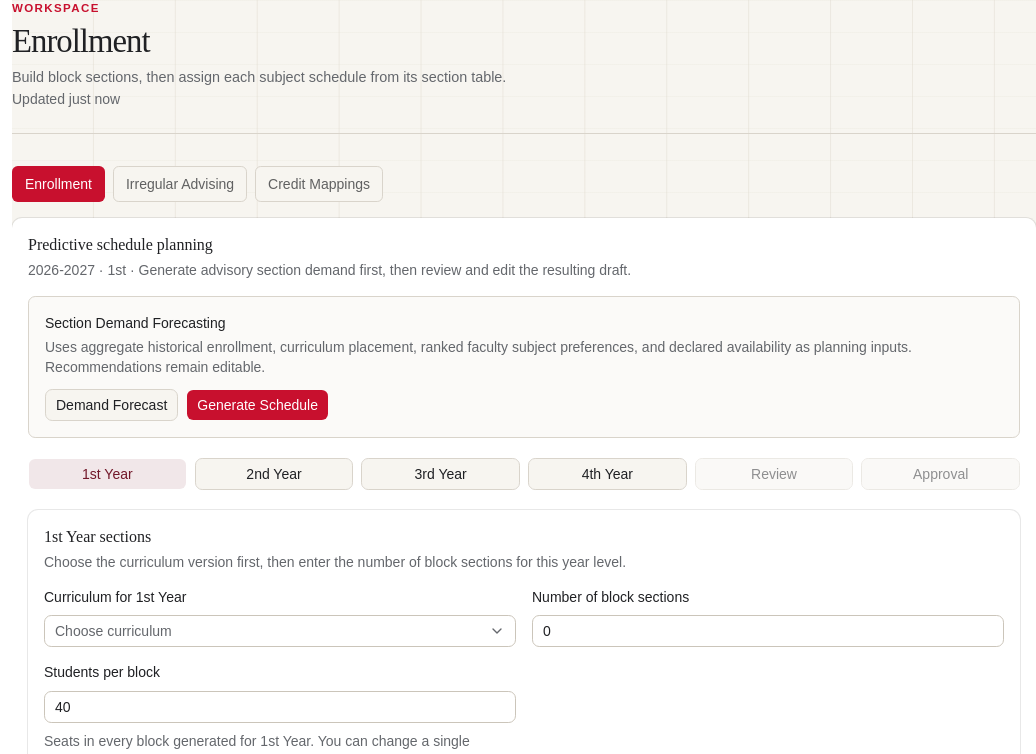
Scenario: ProgramChairEnrollmentWorkspace › guides the chair through one year level at a time
Check: the heading "1st Year sections" is shown, box x1=44 y1=528 x2=151 y2=545
Click the dropdown named "Curriculum for 1st Year" at (113, 631), box x1=44 y1=615 x2=516 y2=647
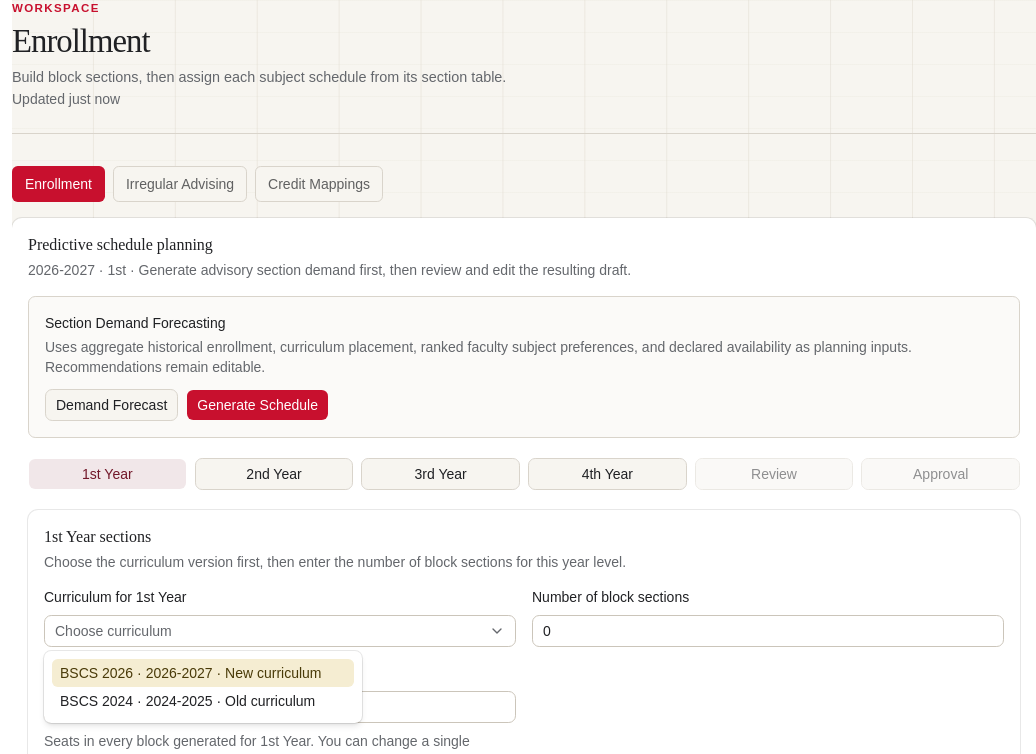
Click the option "BSCS 2026 · 2026-2027 · New curriculum" at (203, 673), box x1=52 y1=659 x2=354 y2=687
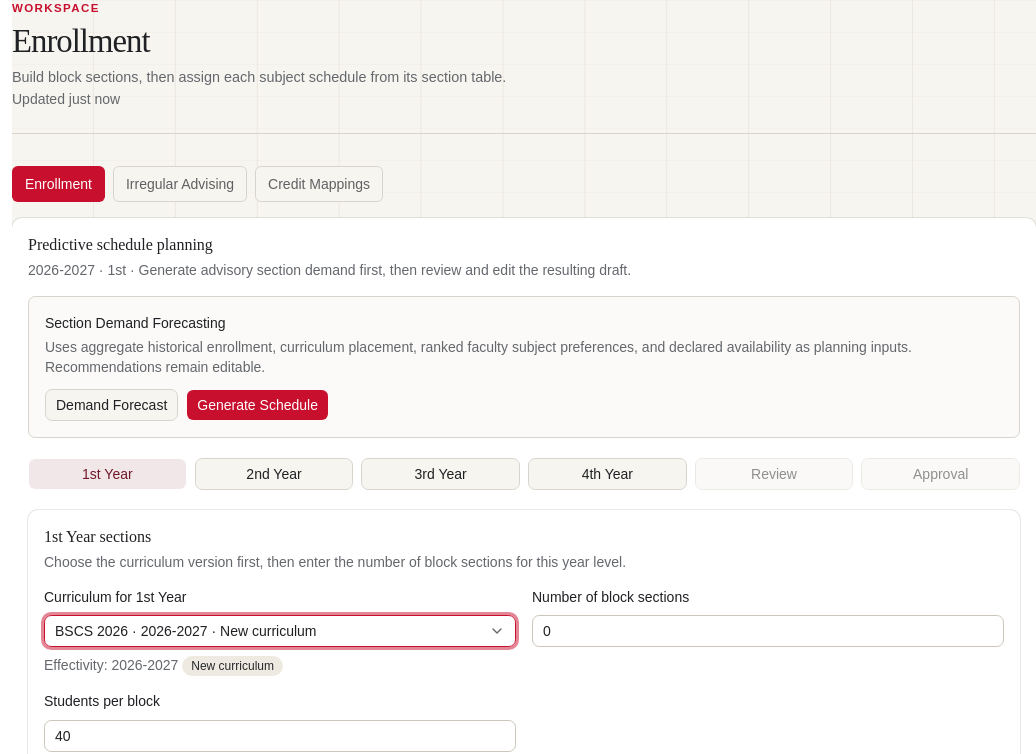
Replace the text in the field labelled "Number of block sections" with "2" at (768, 631), box x1=532 y1=615 x2=1004 y2=647
(page scrolled)
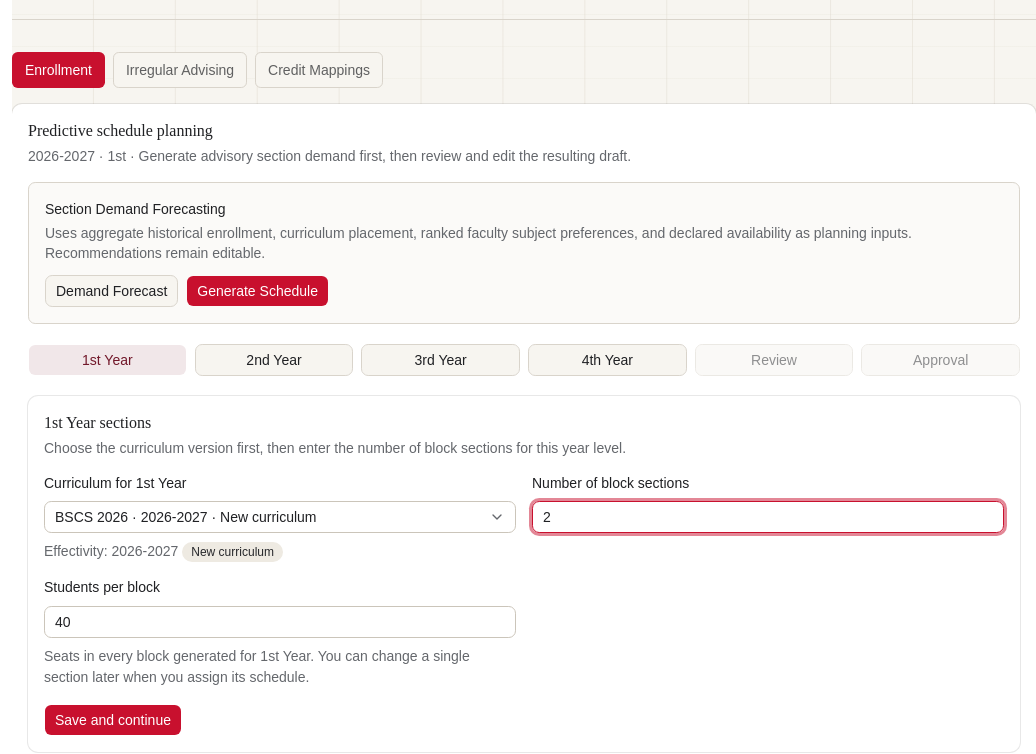
Click the button "Save and continue" at (113, 720), box x1=44 y1=704 x2=182 y2=736
(page scrolled)
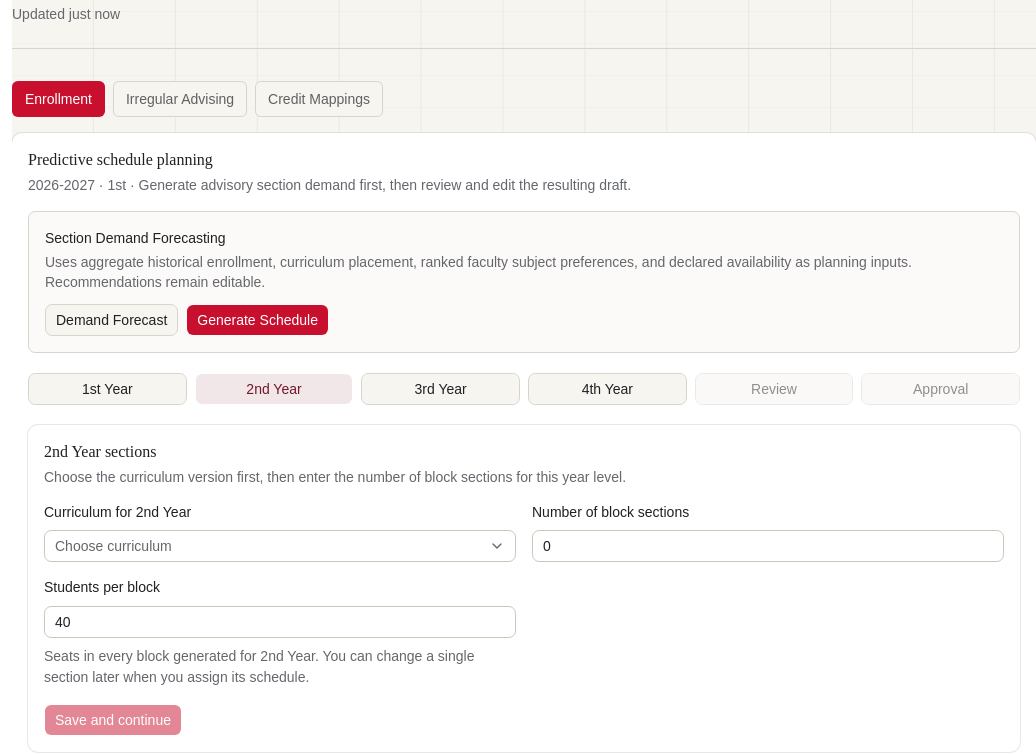
Check: the heading "2nd Year sections" is shown, box x1=44 y1=443 x2=156 y2=460
